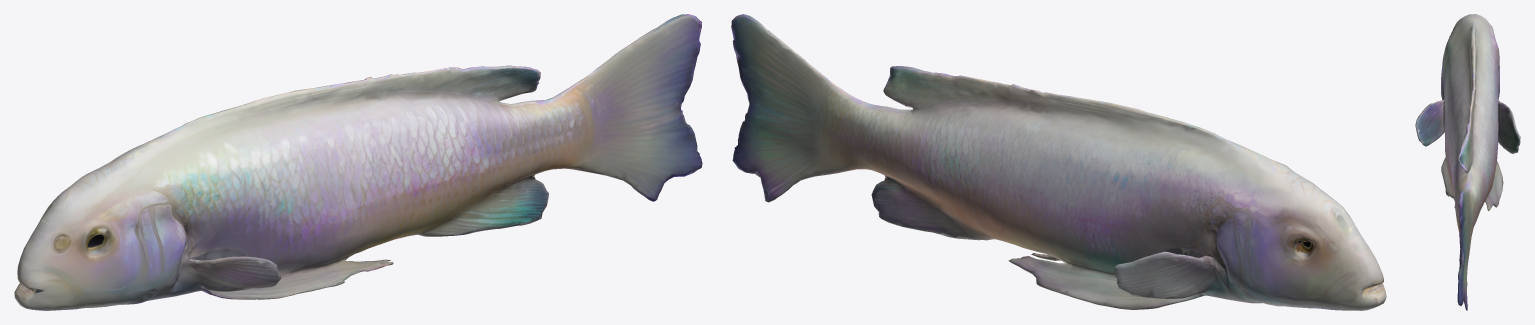
Rendered from snowwhite_0604071510_texture.glb.
3 renders of one model, left to right at view 1: azimuth 30°, elevation 25°; view 2: azimuth 150°, elevation 25°; view 3: azimuth 270°, elevation 25°, orthographic. The views are drawn at different scales.
Bounding box in the file's own units: 2 × 0.5458 × 0.39.
Materials: 1 (1 with a texture image).
